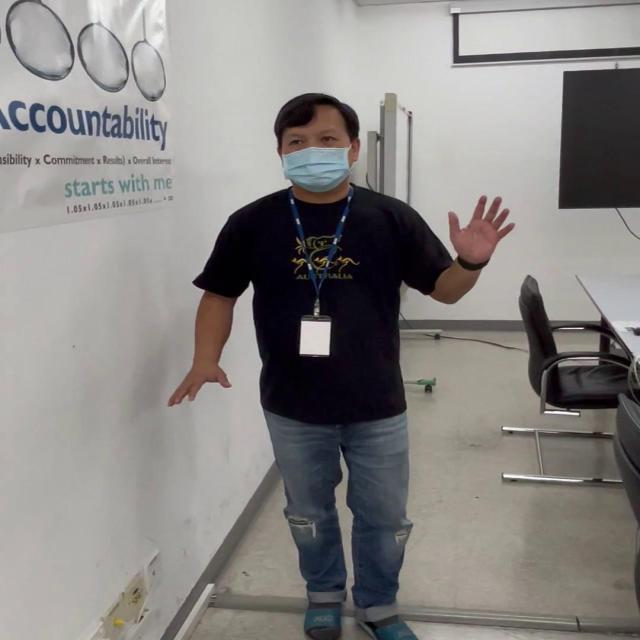bare_hand: (445, 189, 515, 265), (166, 355, 231, 409)
